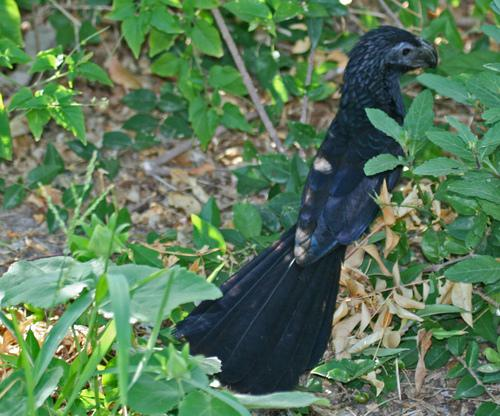004.Groove_billed_Ani: (166, 26, 439, 393)
